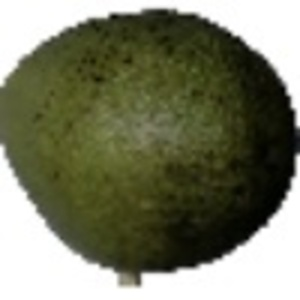abacate: (1, 3, 299, 278)
